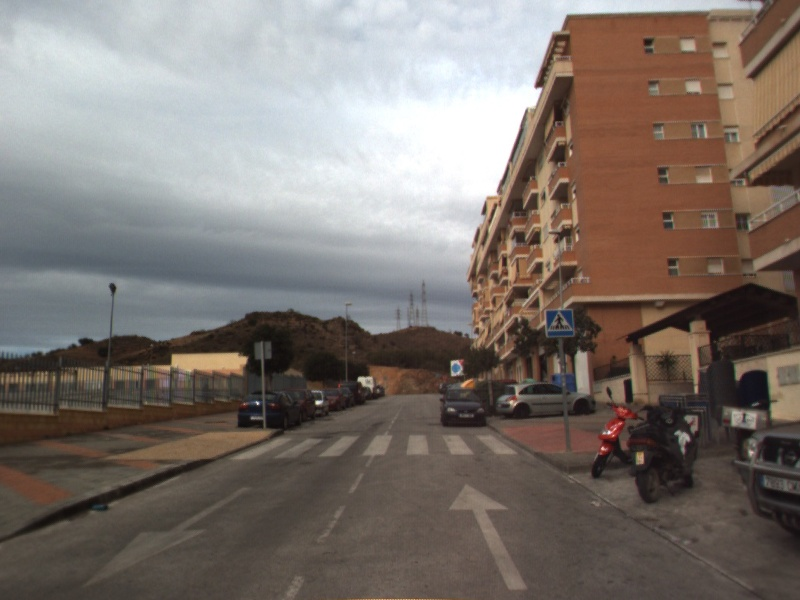STRAIGHT: (446, 481, 529, 591)
